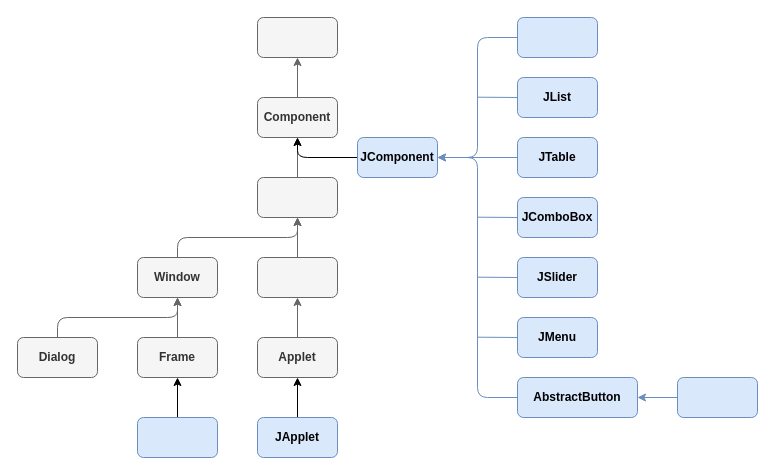
This 775x475 diagram has some shape labels left out. Here are the shapes that lost their labels. From the top down, the centre of each, then its label:
At (x=297, y=37): "Object".
At (x=557, y=37): "JLabel".
At (x=297, y=197): "Container".
At (x=297, y=277): "Panel".
At (x=717, y=397): "JButton".
At (x=177, y=437): "JFrame".
